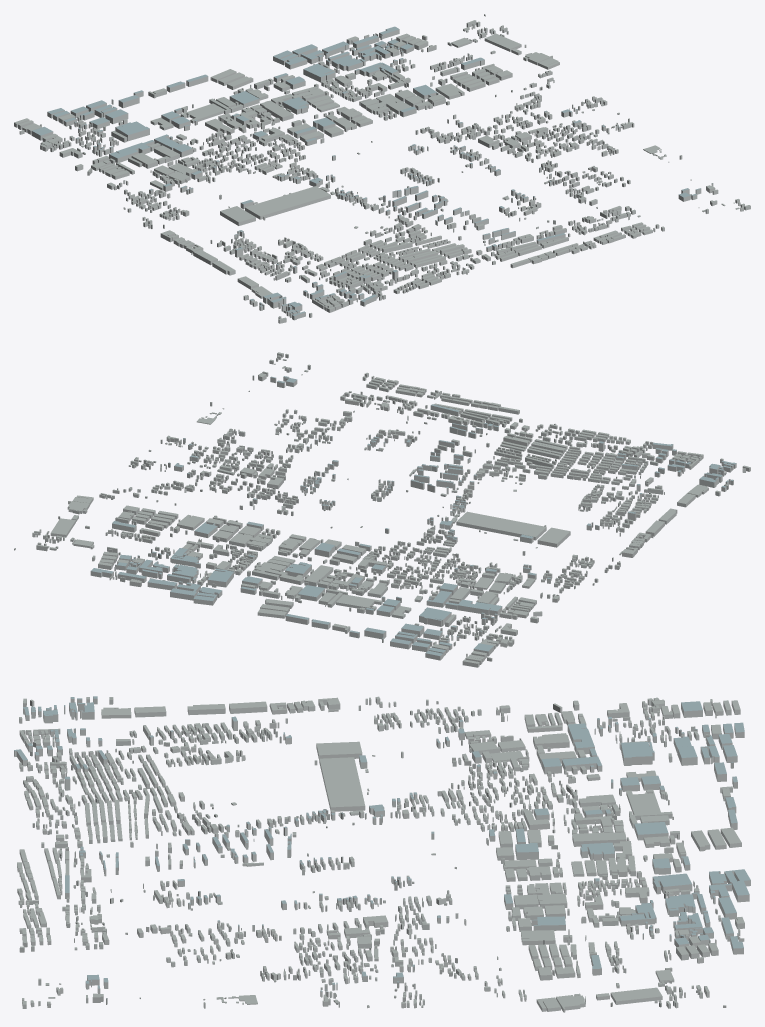
File: far.glb
3 views of the same model, one above another, from view 1: azimuth 30°, elevation 25°; view 2: azimuth 150°, elevation 25°; view 3: azimuth 270°, elevation 25° (orthographic). The views are drawn at different scales.
Bounding box in the file's own units: 2133 × 35.92 × 2138.
